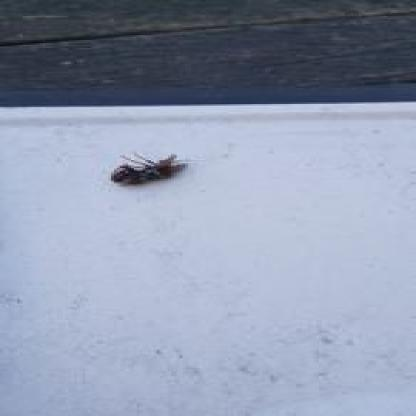Asian Hornet: (94, 152, 206, 188)
